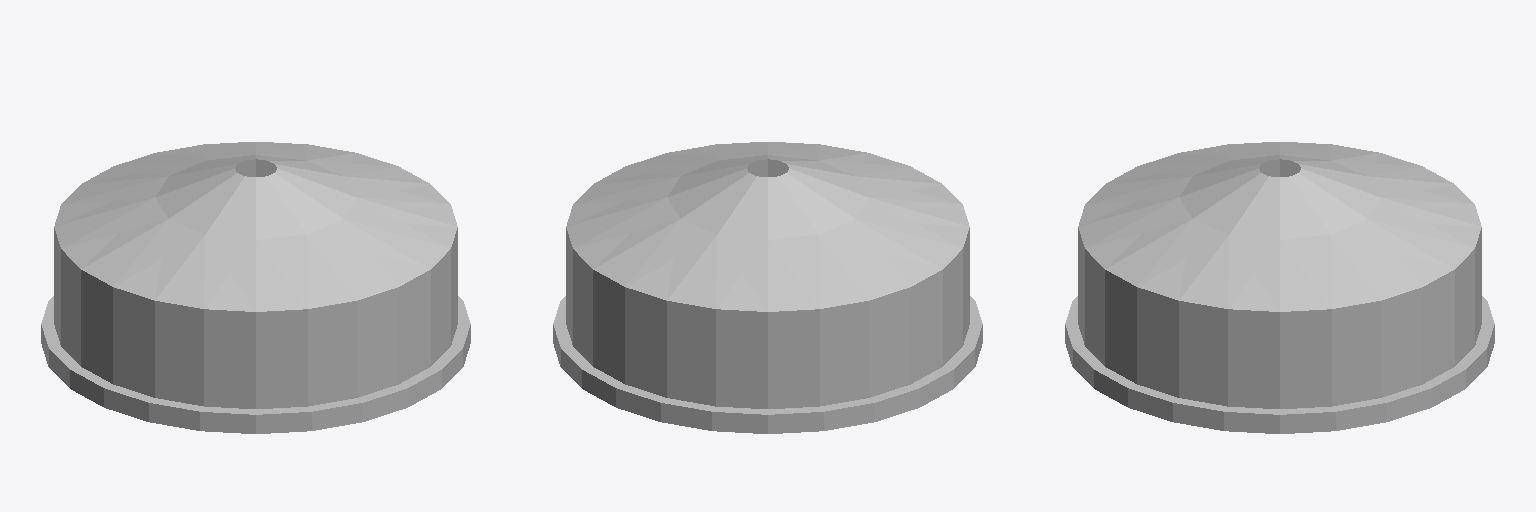
The model's file is biodome_model.obj.
3 views of the same model, side by side, from view 1: azimuth 30°, elevation 25°; view 2: azimuth 150°, elevation 25°; view 3: azimuth 270°, elevation 25° (orthographic).
Parts seen in each view (by area): view 1: roof_surface, cob_wall_outer, foundation_outer, foundation_top, cob_wall_inner; view 2: roof_surface, cob_wall_outer, foundation_outer, foundation_top, cob_wall_inner; view 3: roof_surface, cob_wall_outer, foundation_outer, foundation_top, cob_wall_inner.
Boxes of the visible parts, box(x1,y1,x2,y2) form: roof_surface: box(54, 142, 457, 311); cob_wall_outer: box(54, 228, 457, 408); foundation_outer: box(41, 325, 470, 433); foundation_top: box(41, 296, 470, 414); cob_wall_inner: box(235, 159, 276, 176); roof_surface: box(566, 142, 969, 311); cob_wall_outer: box(566, 228, 969, 408); foundation_outer: box(553, 325, 982, 433); foundation_top: box(553, 296, 982, 414); cob_wall_inner: box(747, 159, 788, 176); roof_surface: box(1078, 142, 1481, 311); cob_wall_outer: box(1078, 228, 1481, 408); foundation_outer: box(1065, 325, 1494, 433); foundation_top: box(1065, 296, 1494, 414); cob_wall_inner: box(1259, 159, 1300, 176).
Bounding box in the file's own units: 10 × 4.5 × 10.